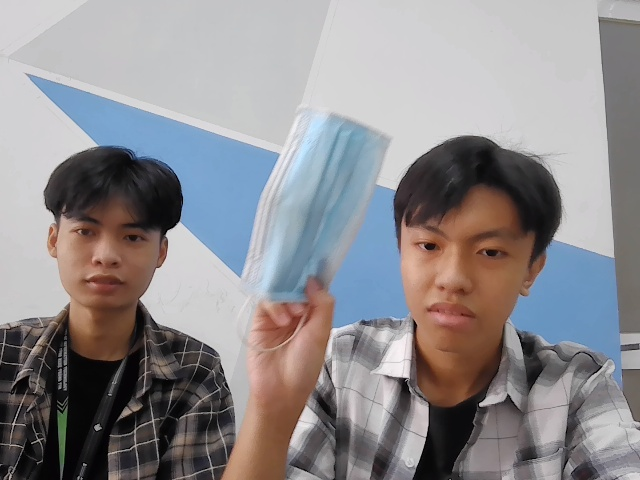human: (390, 134, 558, 345), (45, 146, 185, 307)
mask: (245, 104, 389, 320)
